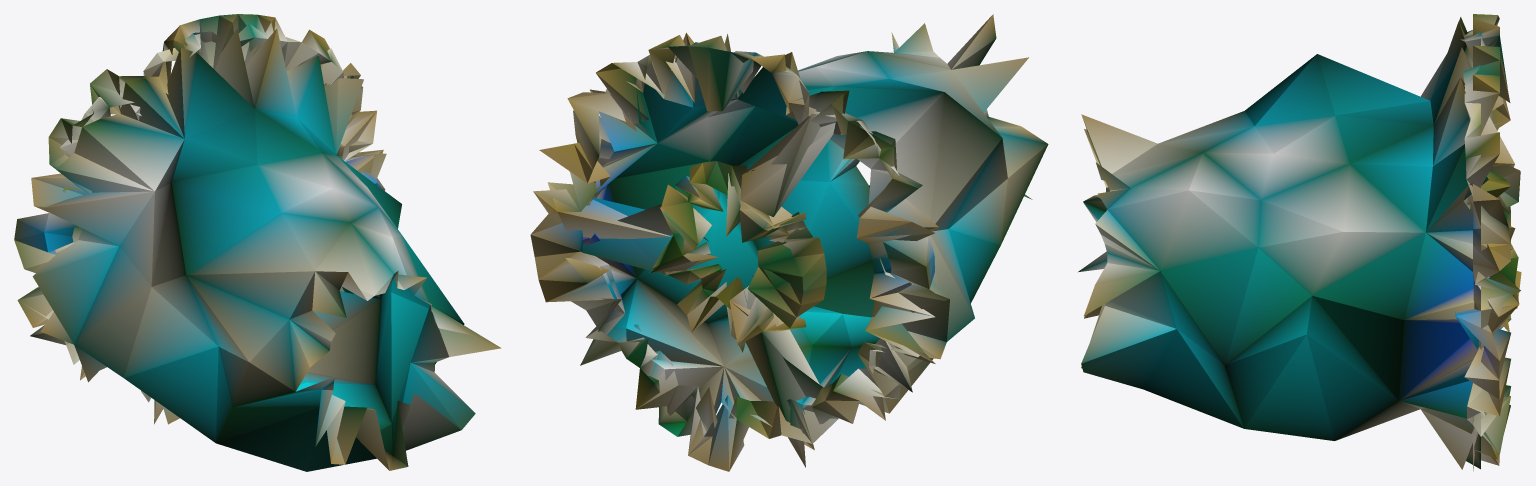
Rendered from lamp_shade_2_final500.obj.
The picture shows the model from 3 angles, left to right: view 1: azimuth 30°, elevation 25°; view 2: azimuth 150°, elevation 25°; view 3: azimuth 270°, elevation 25°; orthographic projection. The views are drawn at different scales.
Size of the model in its own units: 1.29 by 1.29 by 1.25.
